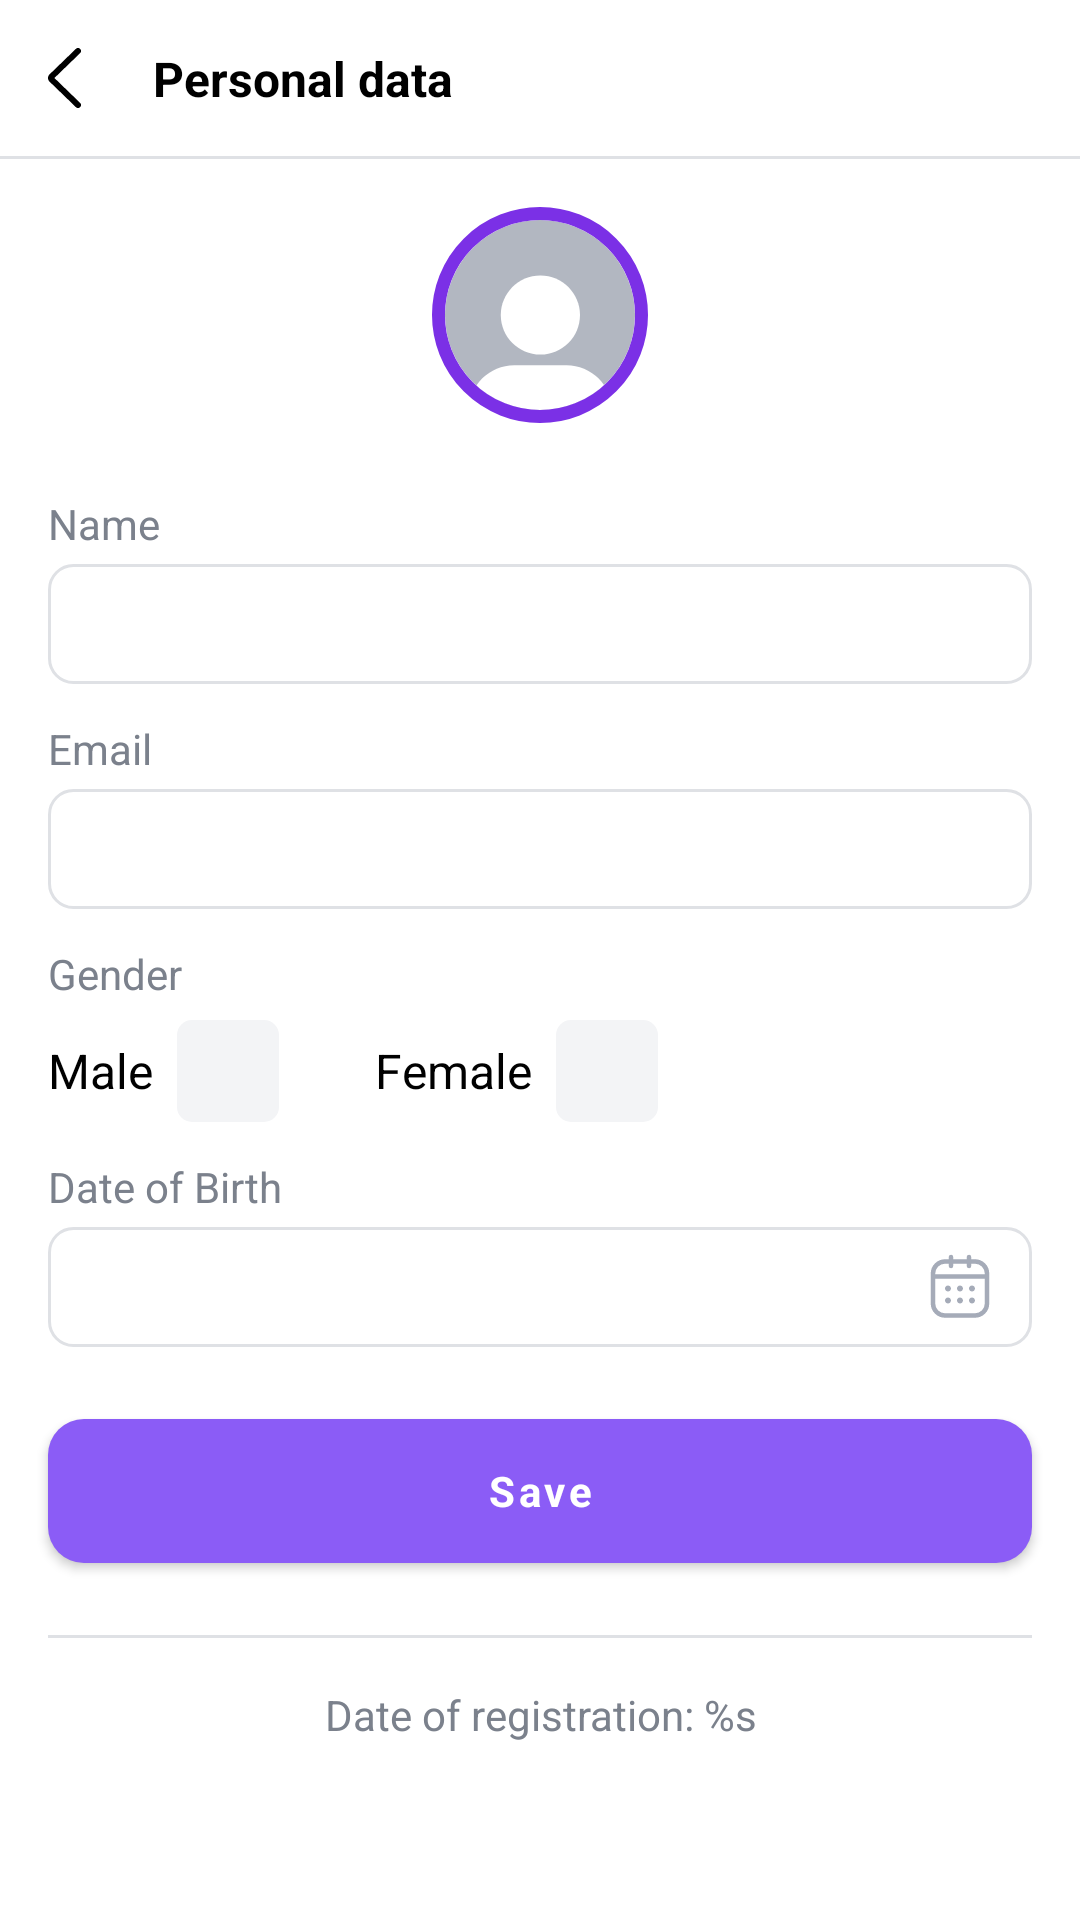

Icons on this 1080px×1920px Android screen, each with its box as (x1, y1, x2, y2):
back: (48, 48, 81, 108)
